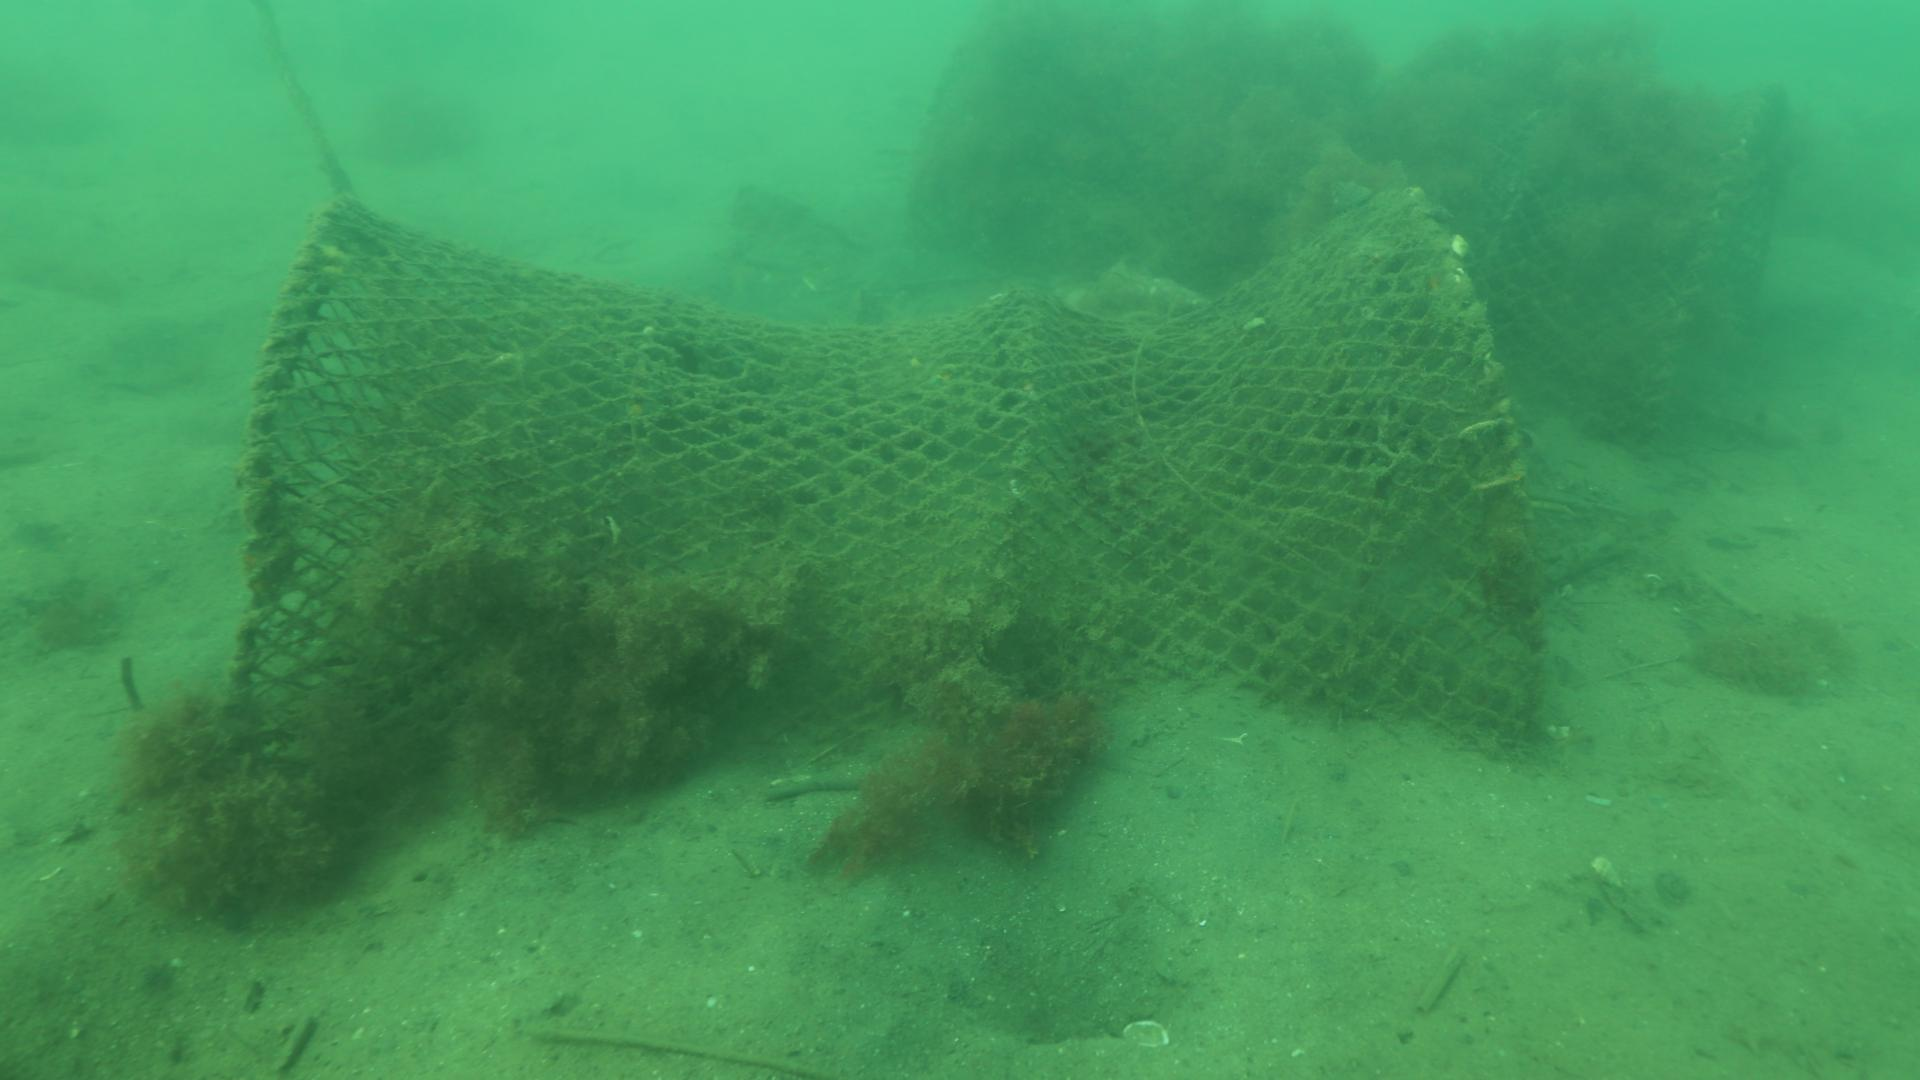spring fish trap: (218, 185, 1547, 748)
